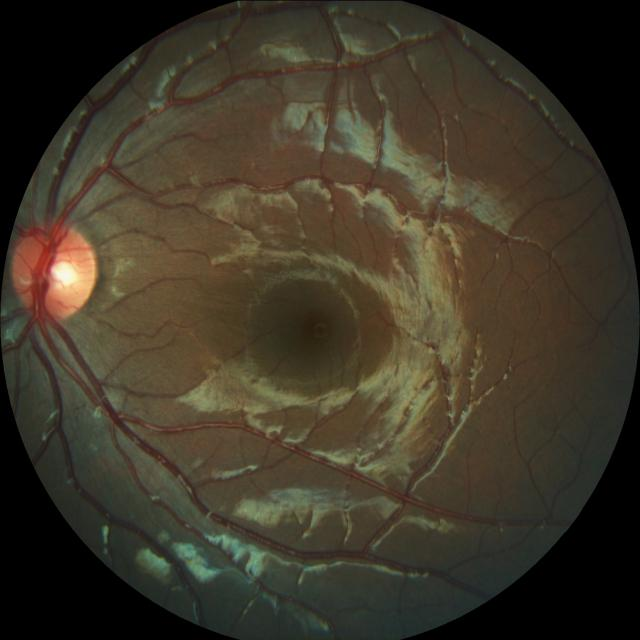OC: (42, 253, 82, 292)
OD: (9, 221, 96, 317)
